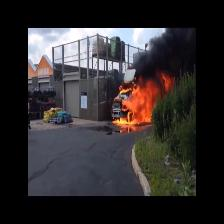fire: (117, 78, 176, 131)
smoke: (135, 31, 198, 76)
